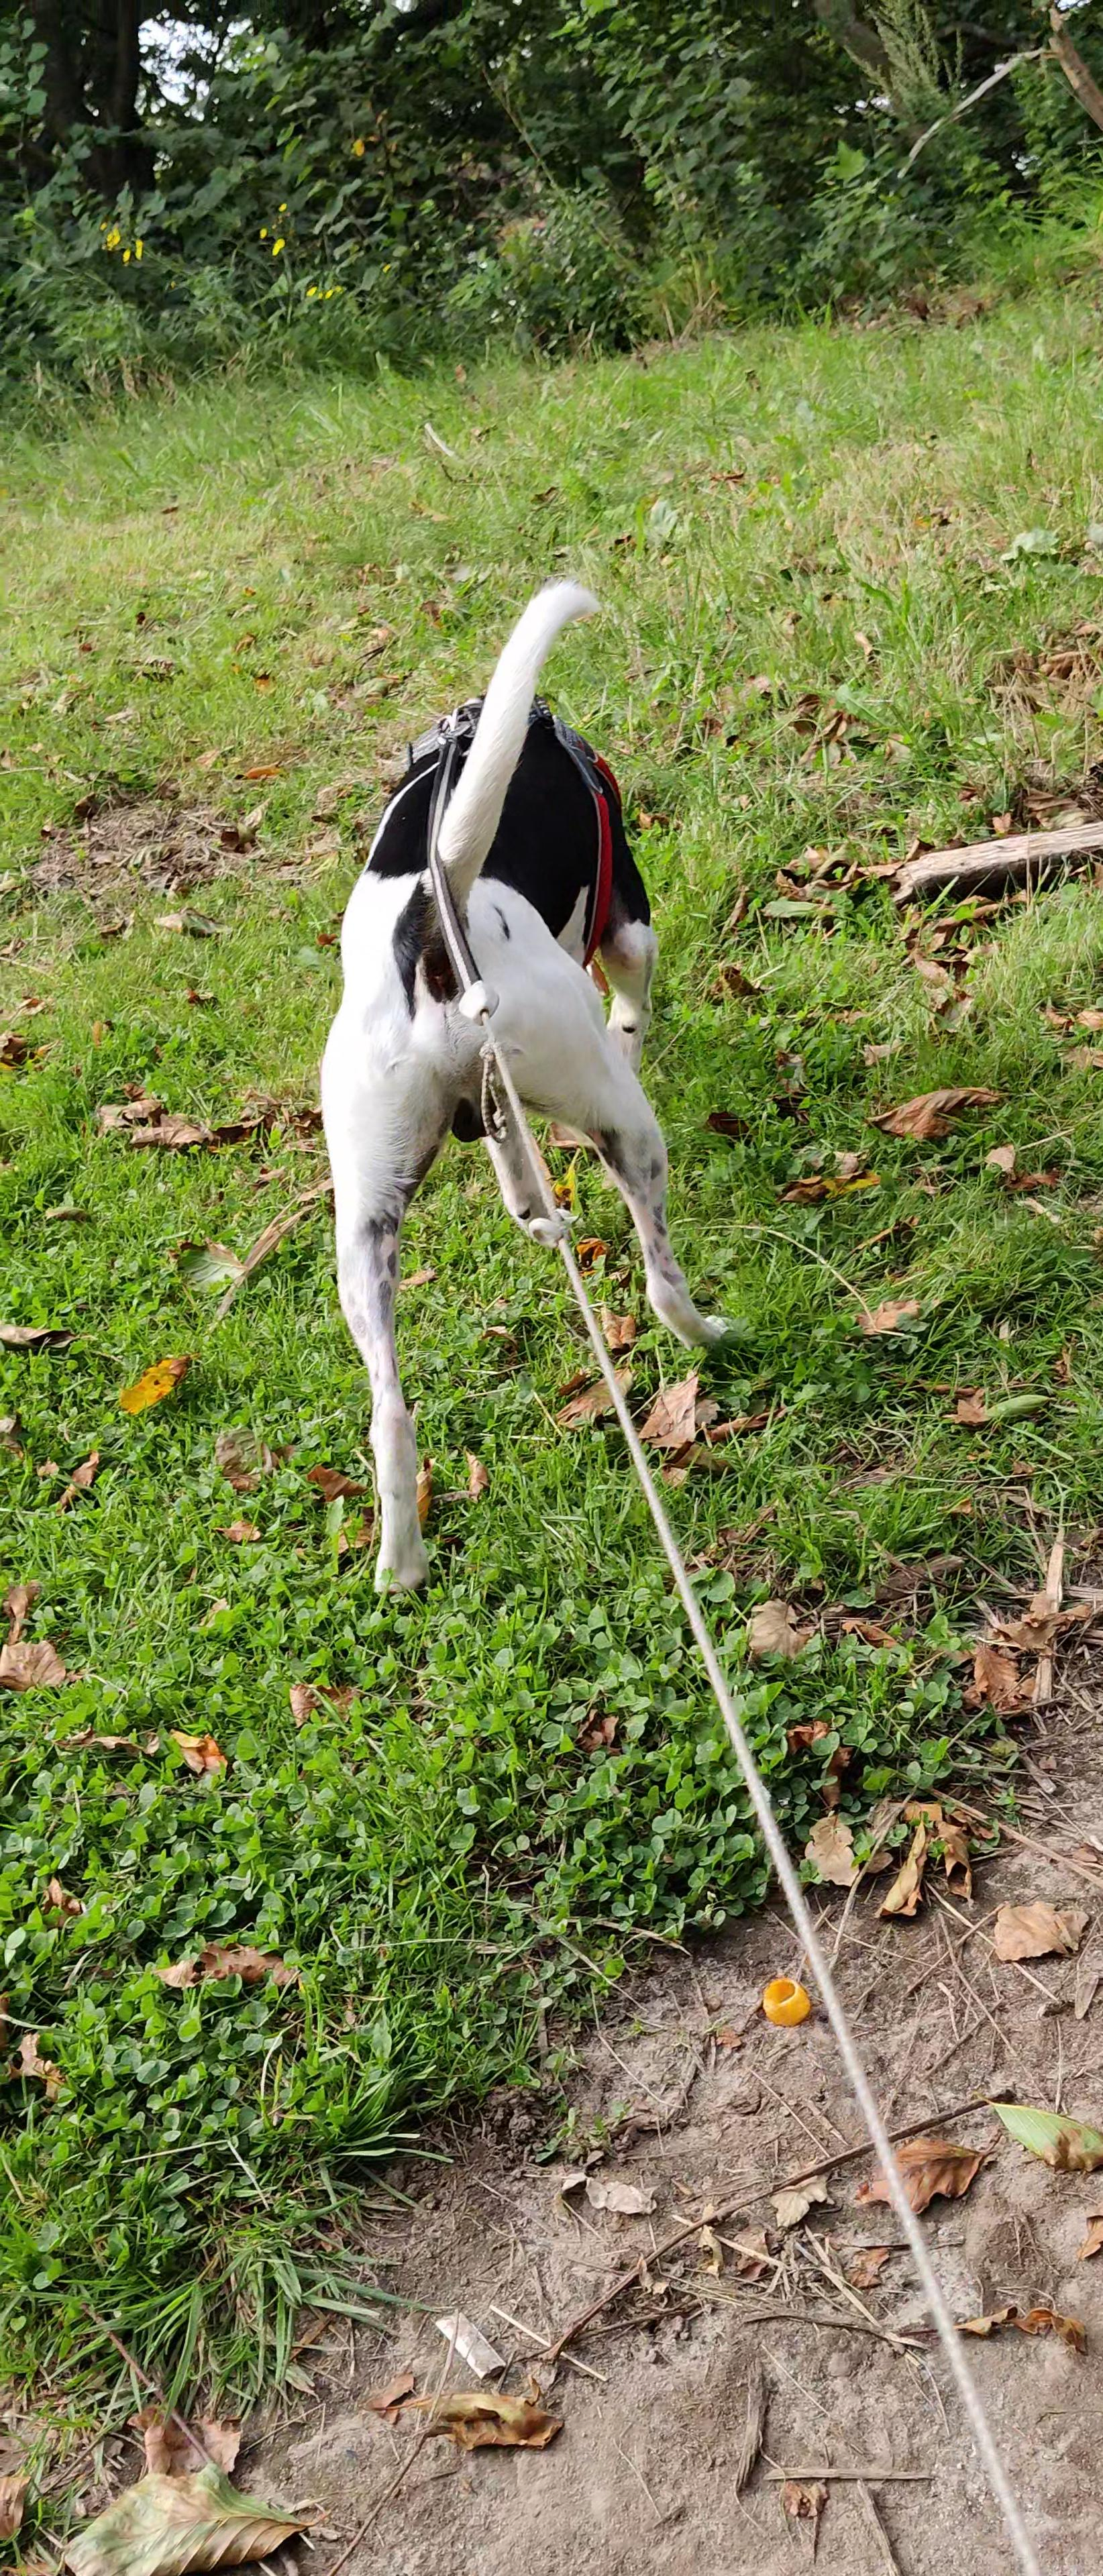Dog: (307, 575, 751, 1603)
